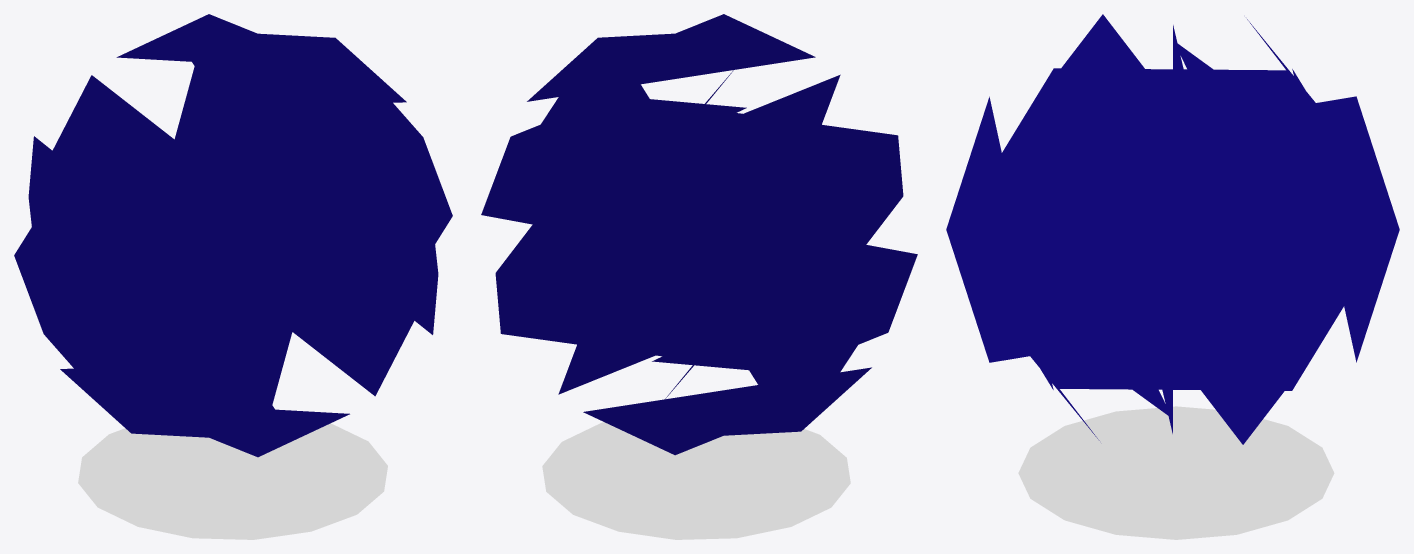
File: Generator-transformed.glb
3 renders of one model, left to right at view 1: azimuth 30°, elevation 25°; view 2: azimuth 150°, elevation 25°; view 3: azimuth 270°, elevation 25°, orthographic.
Parts seen in each view (by area): view 1: Icosphere; view 2: Icosphere; view 3: Icosphere.
Part boxes in pixels (bbox=[...]): Icosphere: bbox=[14, 14, 452, 539]; Icosphere: bbox=[481, 14, 917, 539]; Icosphere: bbox=[946, 14, 1399, 539].
Size of the model in its own units: 2.73 by 3.13 by 2.87.
